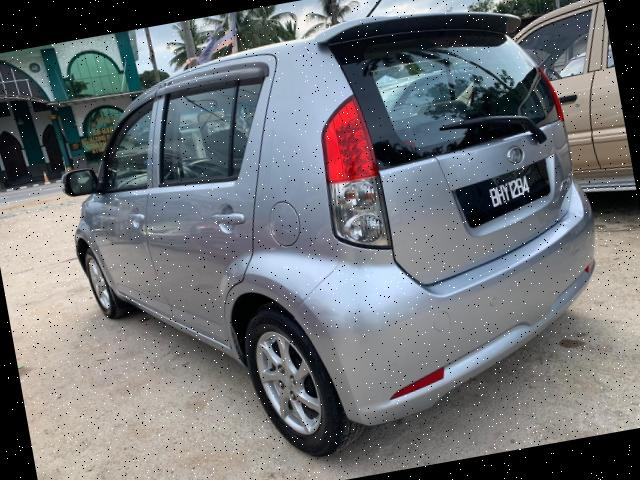License_Plate: (474, 161, 549, 218)
